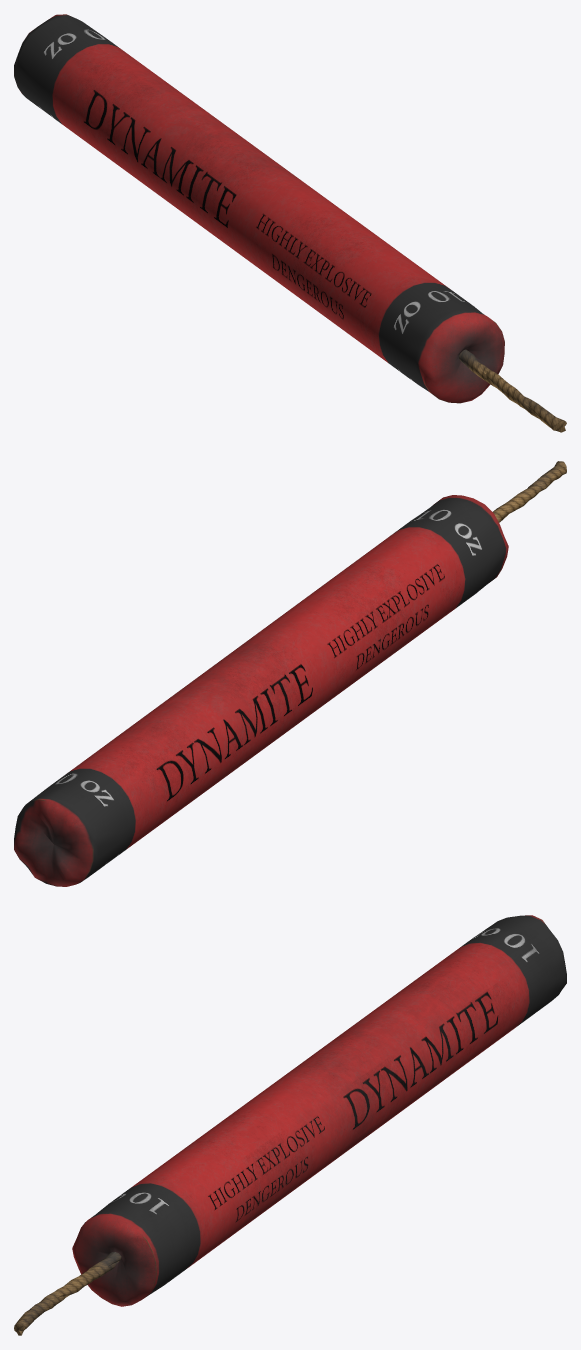
3 renders of one model, top to bottom at view 1: azimuth 30°, elevation 25°; view 2: azimuth 150°, elevation 25°; view 3: azimuth 330°, elevation 25°, orthographic.
Parts seen in each view (by area): view 1: dynamite; view 2: dynamite; view 3: dynamite.
Boxes of the visible parts, x1,y1,x2,y2 form: dynamite: (14,14,566,432); dynamite: (14,461,566,886); dynamite: (14,915,566,1335).
Size of the model in its own units: 0.0345 by 0.0338 by 0.3569.
1 material, 1 textured.
